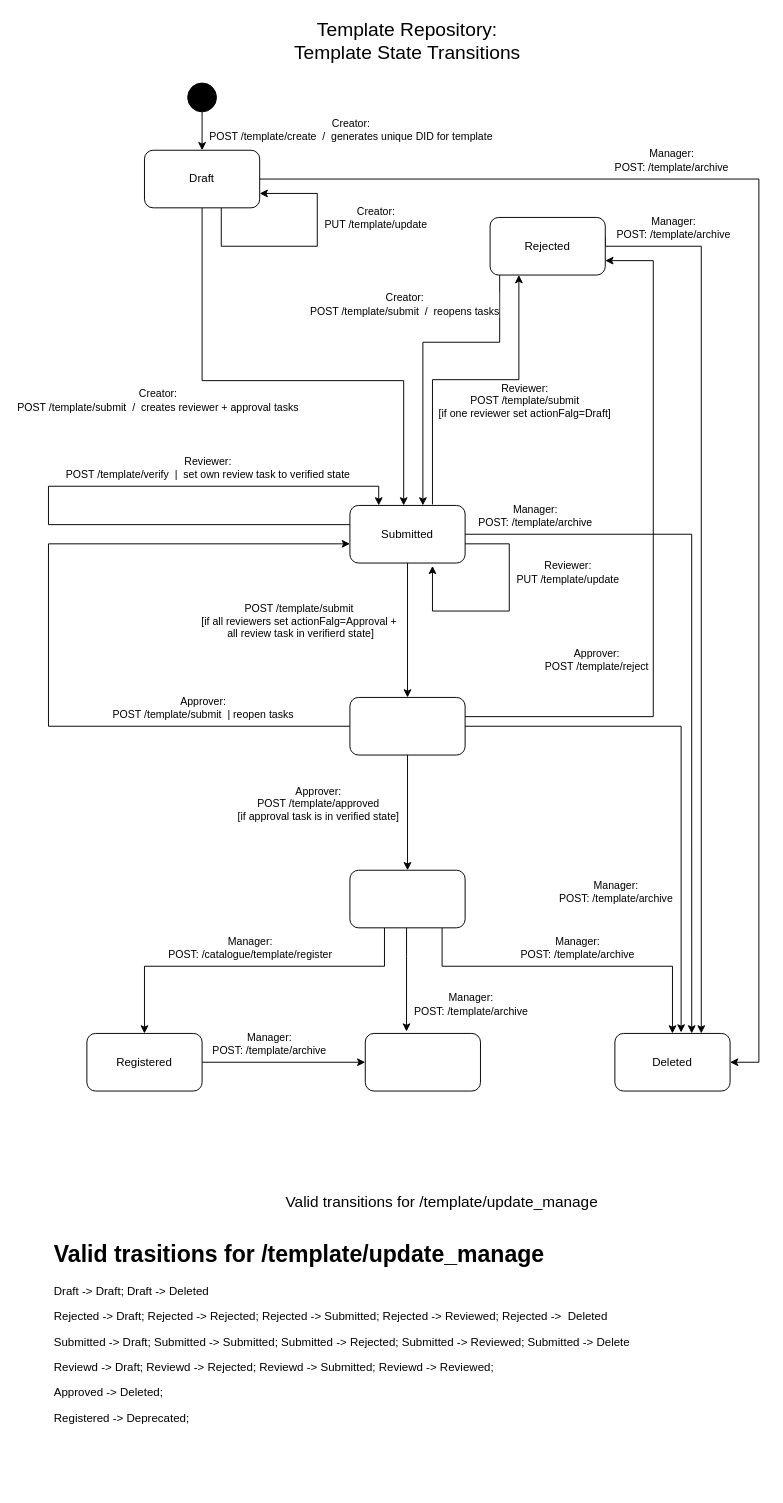
Some shapes in this 783 by 1503 pixel diagram are drawn without their labels. The shapes that lost their labels are listed below. From the top down, each one's centre as x and y in pixels, then its label:
(407,725): Reviewed
(407,898): Approved
(422,1061): Deprecated
